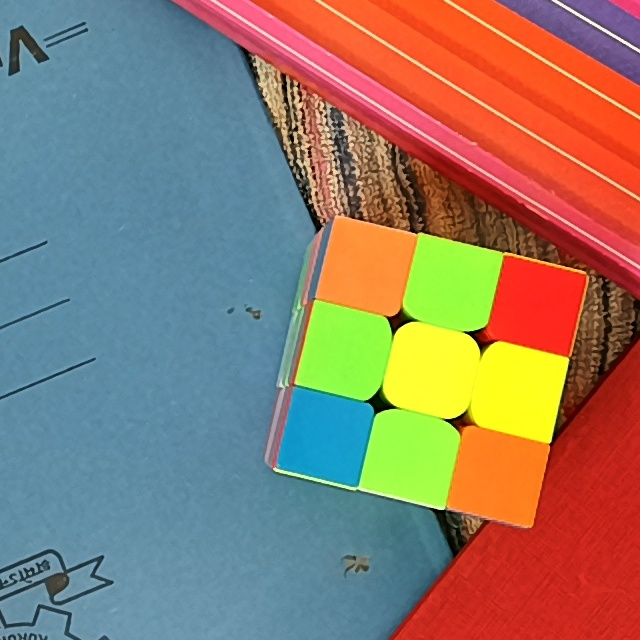tile: (463, 441, 532, 511), (376, 425, 448, 491), (397, 337, 467, 402), (419, 252, 488, 317), (506, 271, 572, 336), (488, 355, 552, 422), (293, 402, 360, 466), (334, 233, 400, 297), (314, 319, 378, 383)
